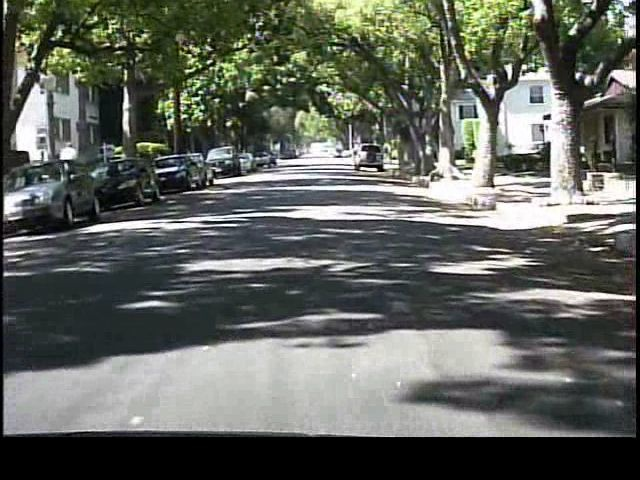person: (58, 140, 85, 199)
